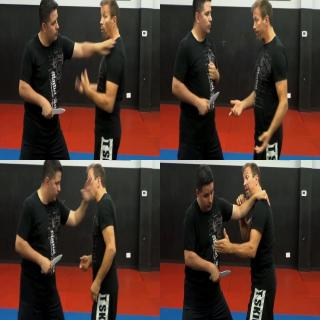knife: (198, 90, 220, 116), (40, 252, 62, 274), (40, 105, 66, 119), (209, 268, 231, 282)
